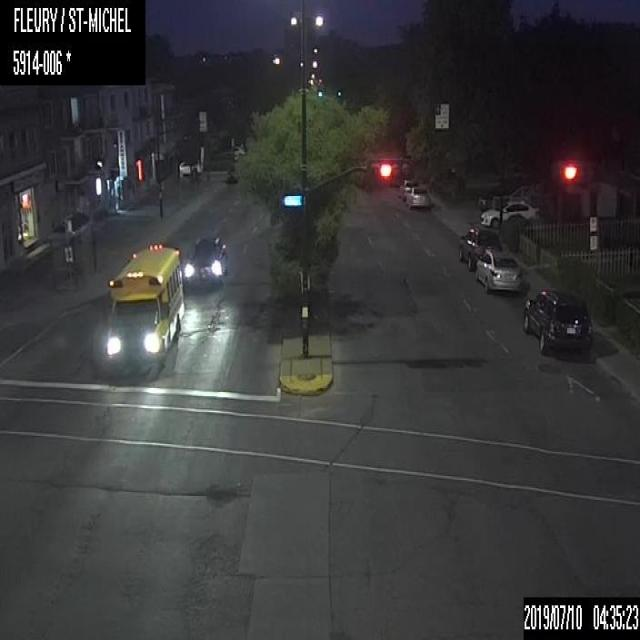bus: (103, 242, 182, 371)
vehicle: (522, 286, 591, 354), (184, 234, 229, 292), (472, 245, 521, 298), (457, 222, 499, 268), (478, 197, 539, 226), (408, 185, 429, 208), (399, 180, 416, 200)
